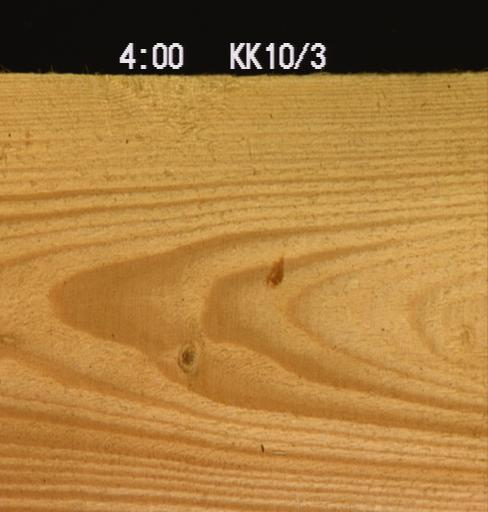sound_knot: (172, 336, 202, 373)
